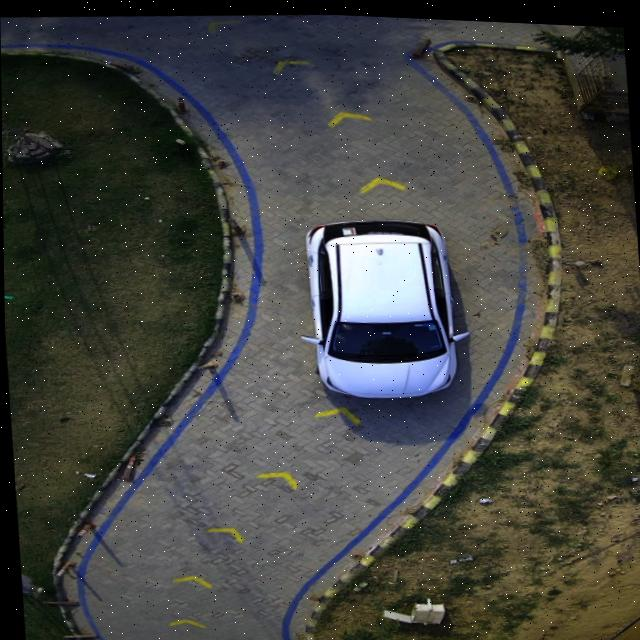car: (305, 216, 457, 394)
